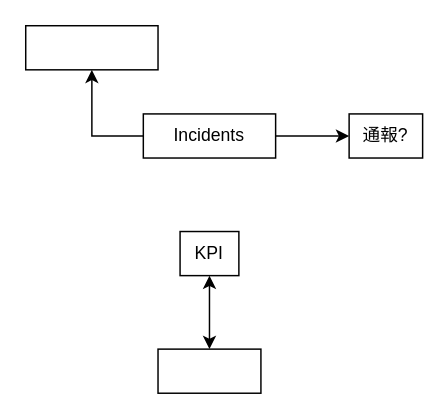
The diagram is 448 pixels wide and 419 high, and some of its shapes have lost their labels. Here are the shapes that lost their labels. From the top down, the box of each, then its label:
(24, 24, 158, 70): 經驗學習 預防再發
(157, 348, 261, 393): 人員訓練 績效評估
